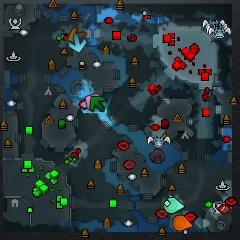p2: (164, 197, 184, 213)
p5: (173, 215, 193, 231)
x1: (85, 93, 100, 108)
x3: (68, 34, 86, 52)
x4: (89, 95, 106, 112)
x5: (68, 27, 86, 41)
